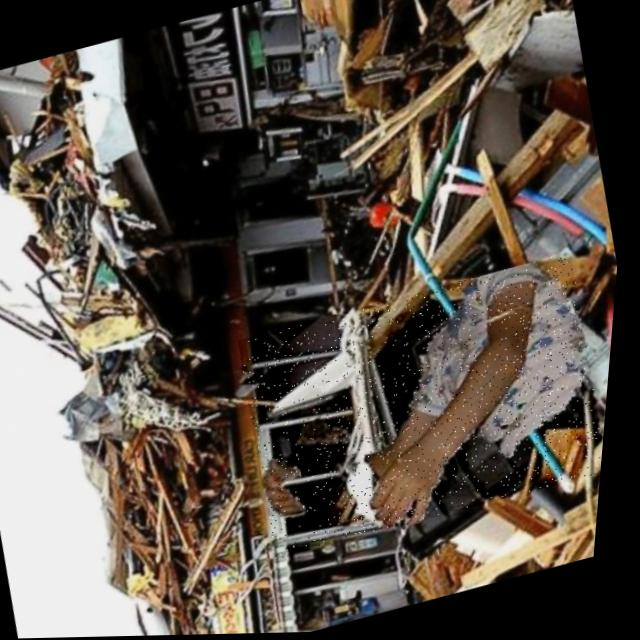Person in Rubble: (229, 252, 623, 560)
